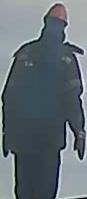gloves: (73, 132, 85, 161)
helmet: (41, 1, 74, 25)
vest: (10, 40, 79, 152)
